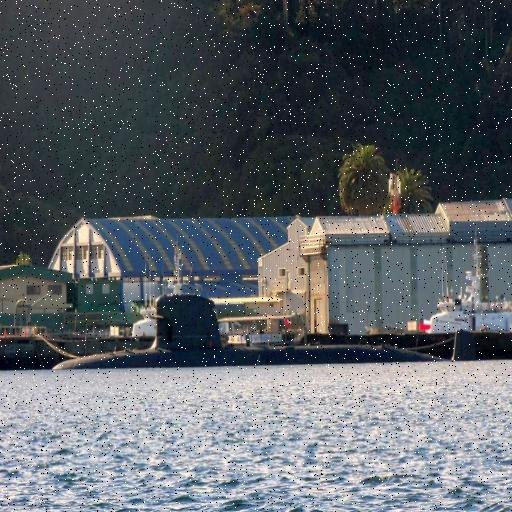submarine: (17, 281, 512, 364)
